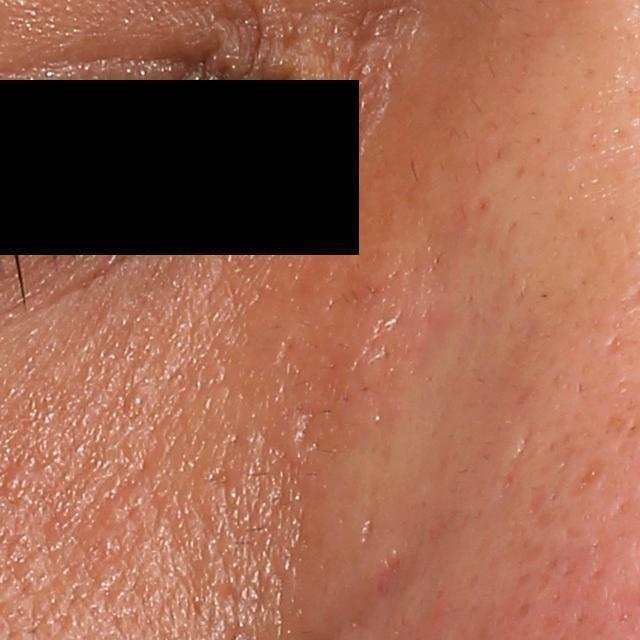atrophic_scar: (494, 416, 535, 498), (575, 460, 603, 498), (602, 337, 626, 360)
